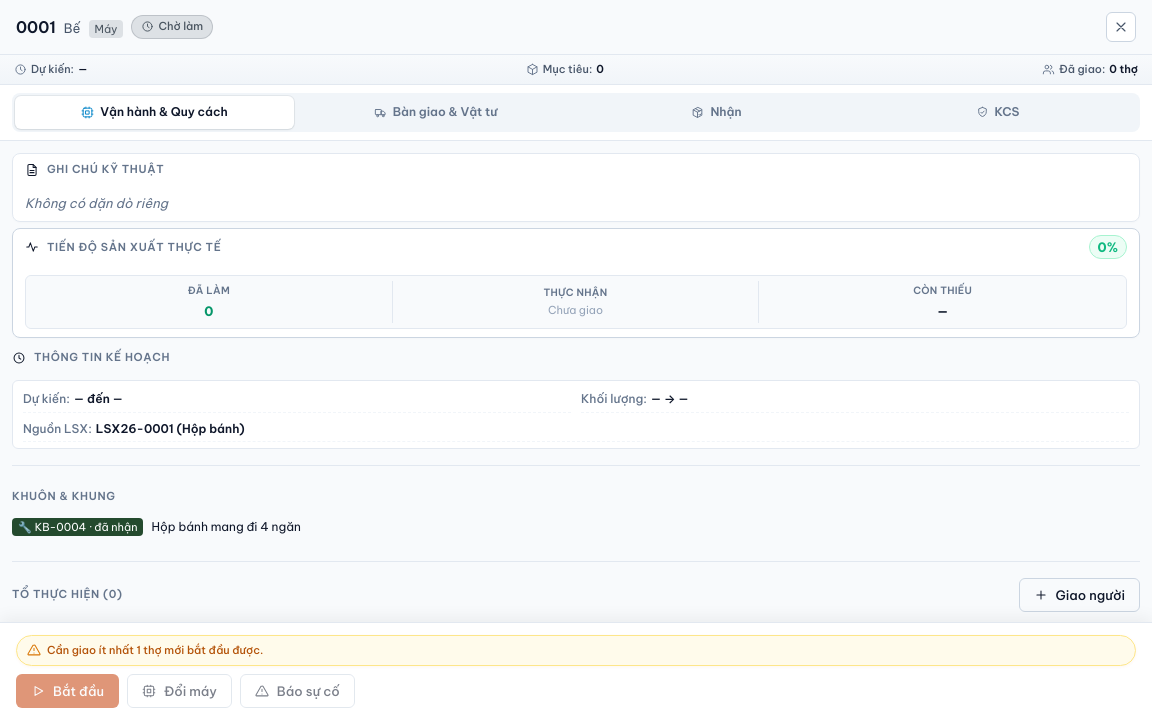
Test case: ThsxDrawer · tab Nhận (§11.5) › không có việc chờ: mở ở Vận hành, không chấm; bấm tab Nhận vẫn thấy lịch sử bàn giao đến
Click the tab "Nhận" at [716, 112], box [577,96,856,129]
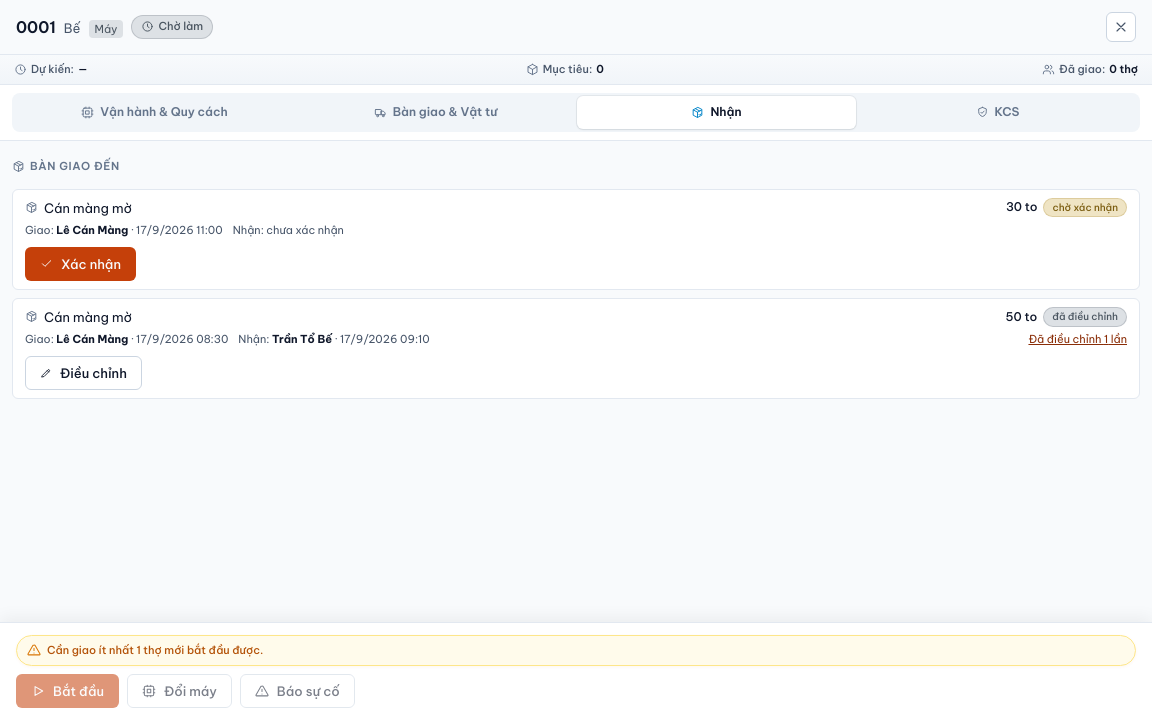
Check: the number of list items with class "thsx-x-bg" is 2, box [12,189,1140,290]; [12,298,1140,399]
